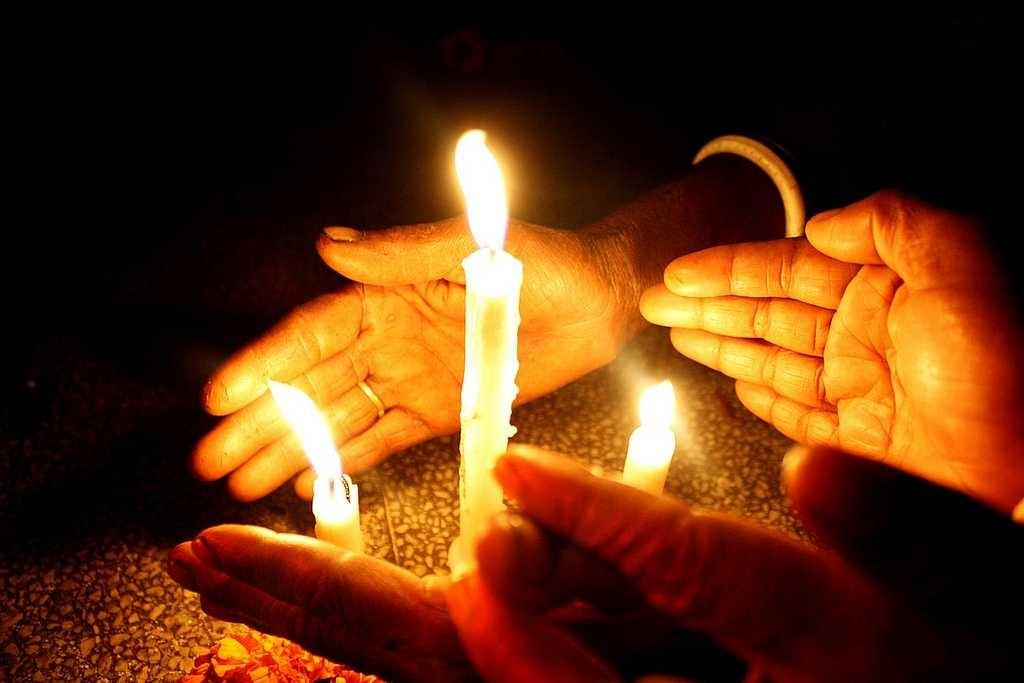fire: (256, 368, 362, 487), (456, 113, 524, 247), (618, 373, 696, 471)
